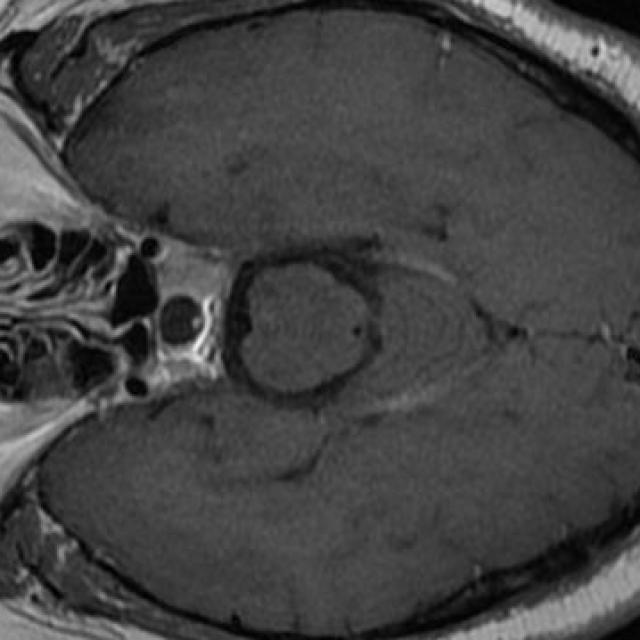pituitary: (148, 253, 226, 389)
